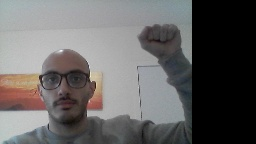Pugno: (135, 22, 182, 55)
